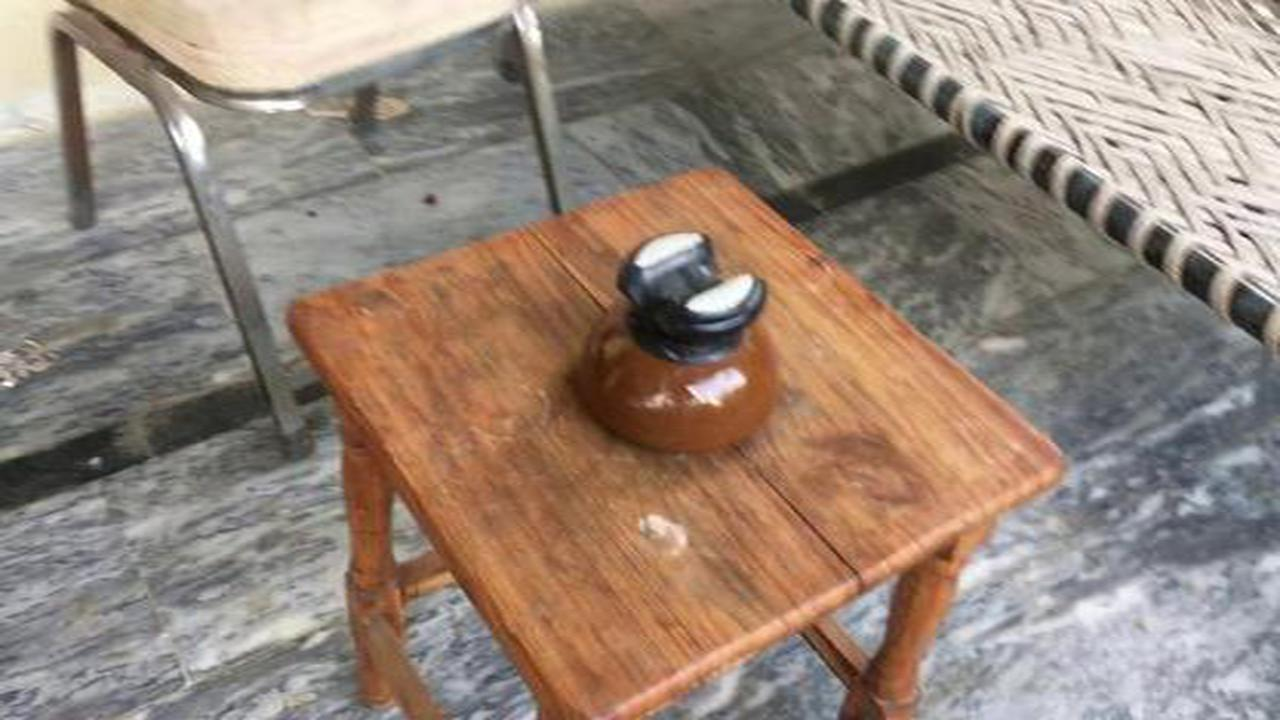insulator_pin: (557, 221, 797, 473)
